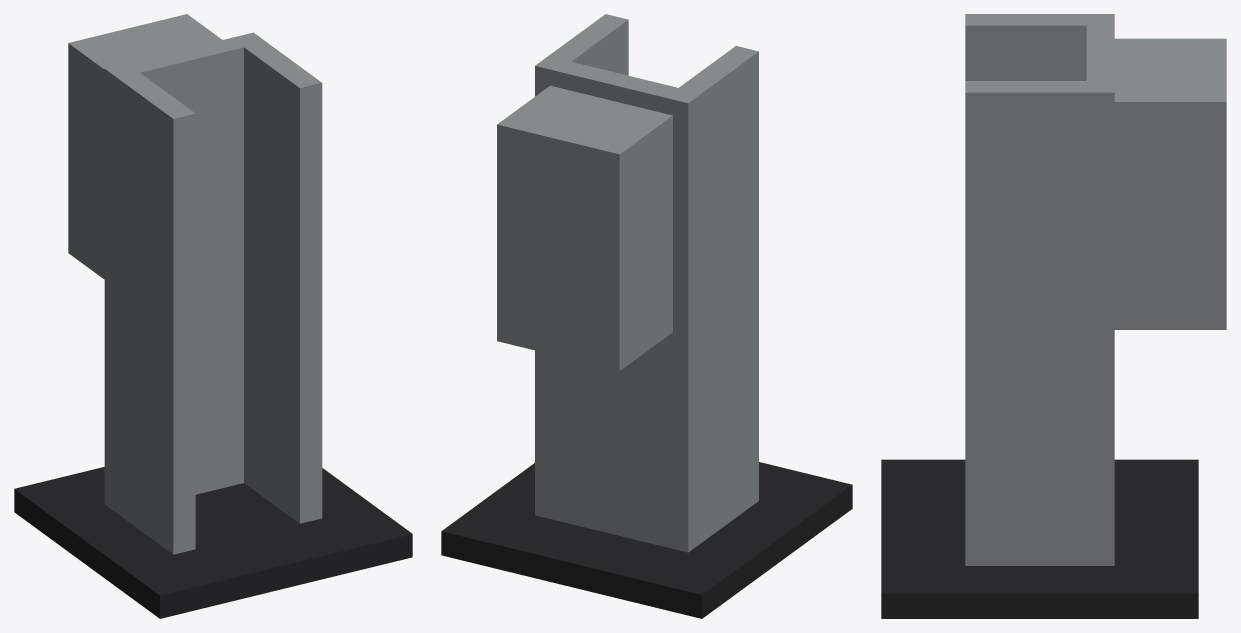
Rendered from guardrail_box_beam_post_flat.obj.
3 views of the same model, side by side, from view 1: azimuth 30°, elevation 25°; view 2: azimuth 150°, elevation 25°; view 3: azimuth 270°, elevation 25° (orthographic). The views are drawn at different scales.
Parts seen in each view (by area): view 1: guardrail_box_beam_post_flat; view 2: guardrail_box_beam_post_flat; view 3: guardrail_box_beam_post_flat.
Part boxes in pixels (x1,y1,x2,y2): guardrail_box_beam_post_flat: (14,14,412,618); guardrail_box_beam_post_flat: (441,14,852,618); guardrail_box_beam_post_flat: (881,14,1226,618).
Size of the model in its own units: 0.425 by 0.7375 by 0.4625.
